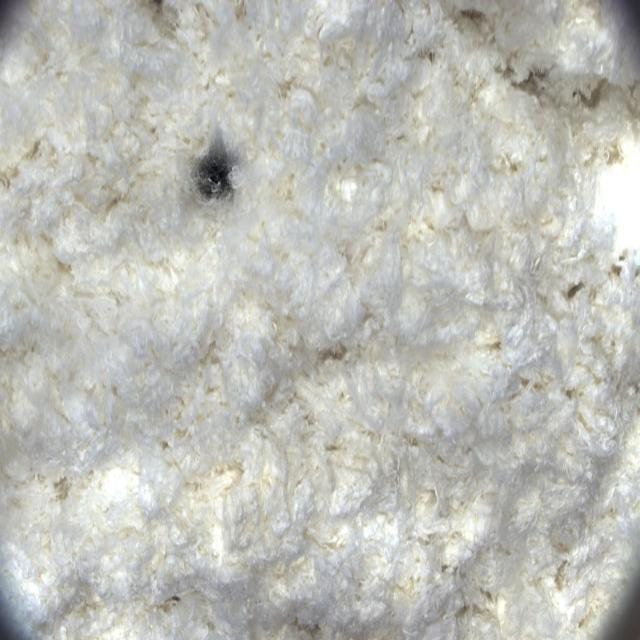dust: (176, 109, 262, 243)
